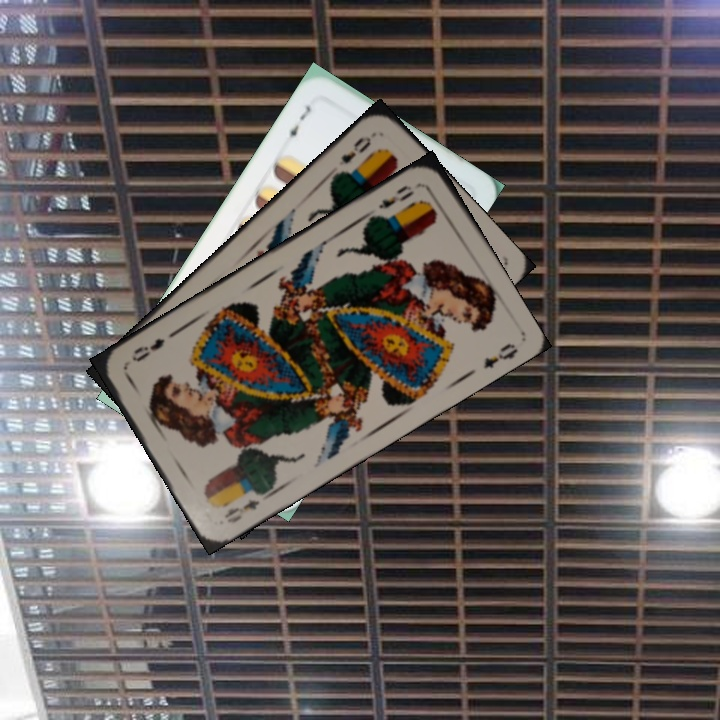E7: (281, 101, 314, 144)
EO: (333, 132, 374, 177), (374, 181, 417, 212), (220, 495, 263, 526)
